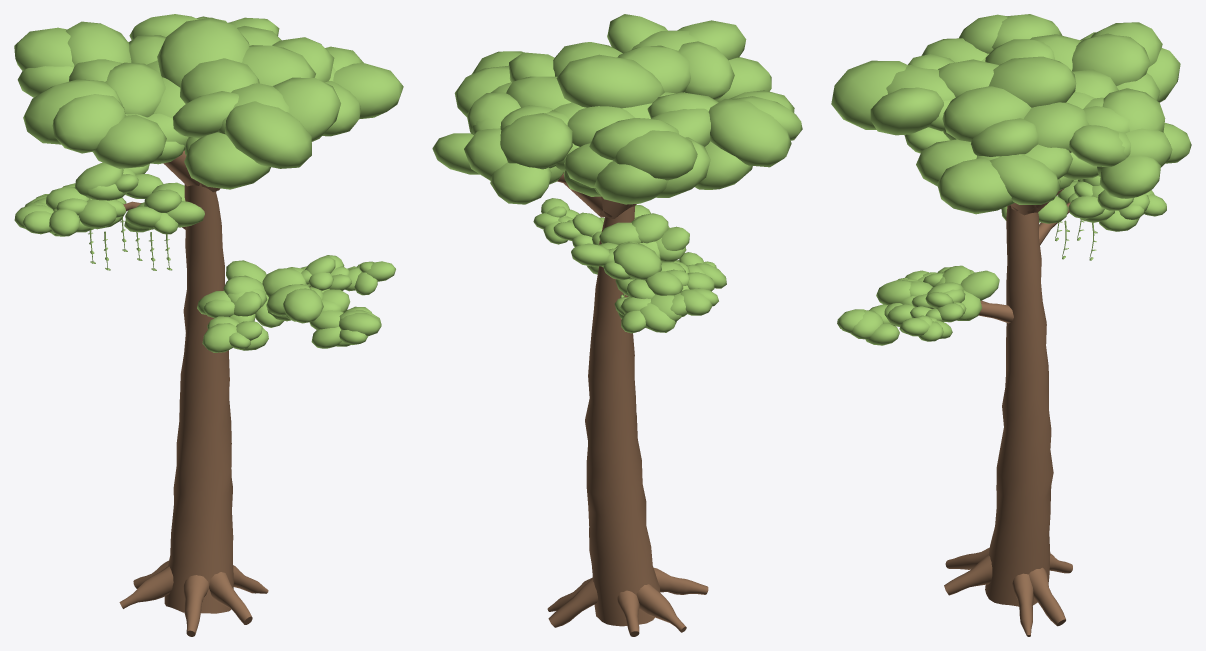
The model's file is first_steps_tree_03.glb.
The picture shows the model from 3 angles, left to right: view 1: azimuth 30°, elevation 25°; view 2: azimuth 150°, elevation 25°; view 3: azimuth 270°, elevation 25°; orthographic projection. The views are drawn at different scales.
Parts seen in each view (by area): view 1: CrownMesh, Trunk, BoughMeshA, BoughMeshB; view 2: CrownMesh, Trunk, BoughMeshB, BoughMeshA; view 3: CrownMesh, Trunk, BoughMeshA, BoughMeshB.
Part boxes in pixels (box(x1,y1,x2,y2)): CrownMesh: box(14, 14, 403, 192); Trunk: box(119, 183, 268, 636); BoughMeshA: box(197, 255, 395, 352); BoughMeshB: box(14, 162, 204, 270); CrownMesh: box(432, 14, 802, 218); Trunk: box(547, 206, 708, 636); BoughMeshB: box(571, 213, 718, 333); BoughMeshA: box(533, 198, 726, 288); CrownMesh: box(831, 14, 1191, 215); Trunk: box(944, 205, 1072, 636); BoughMeshA: box(837, 265, 1013, 345); BoughMeshB: box(1001, 176, 1166, 260).
Size of the model in its own units: 31.57 by 50.97 by 30.33.
